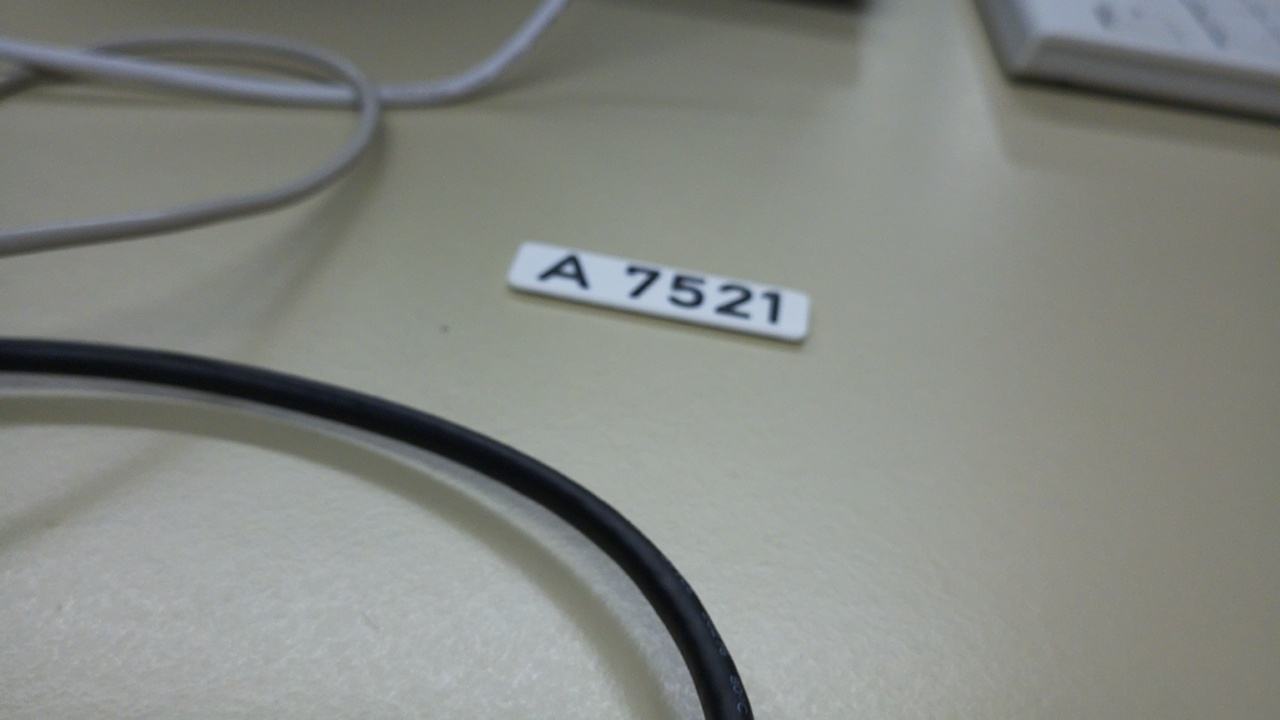license_plate: (519, 235, 821, 288)
